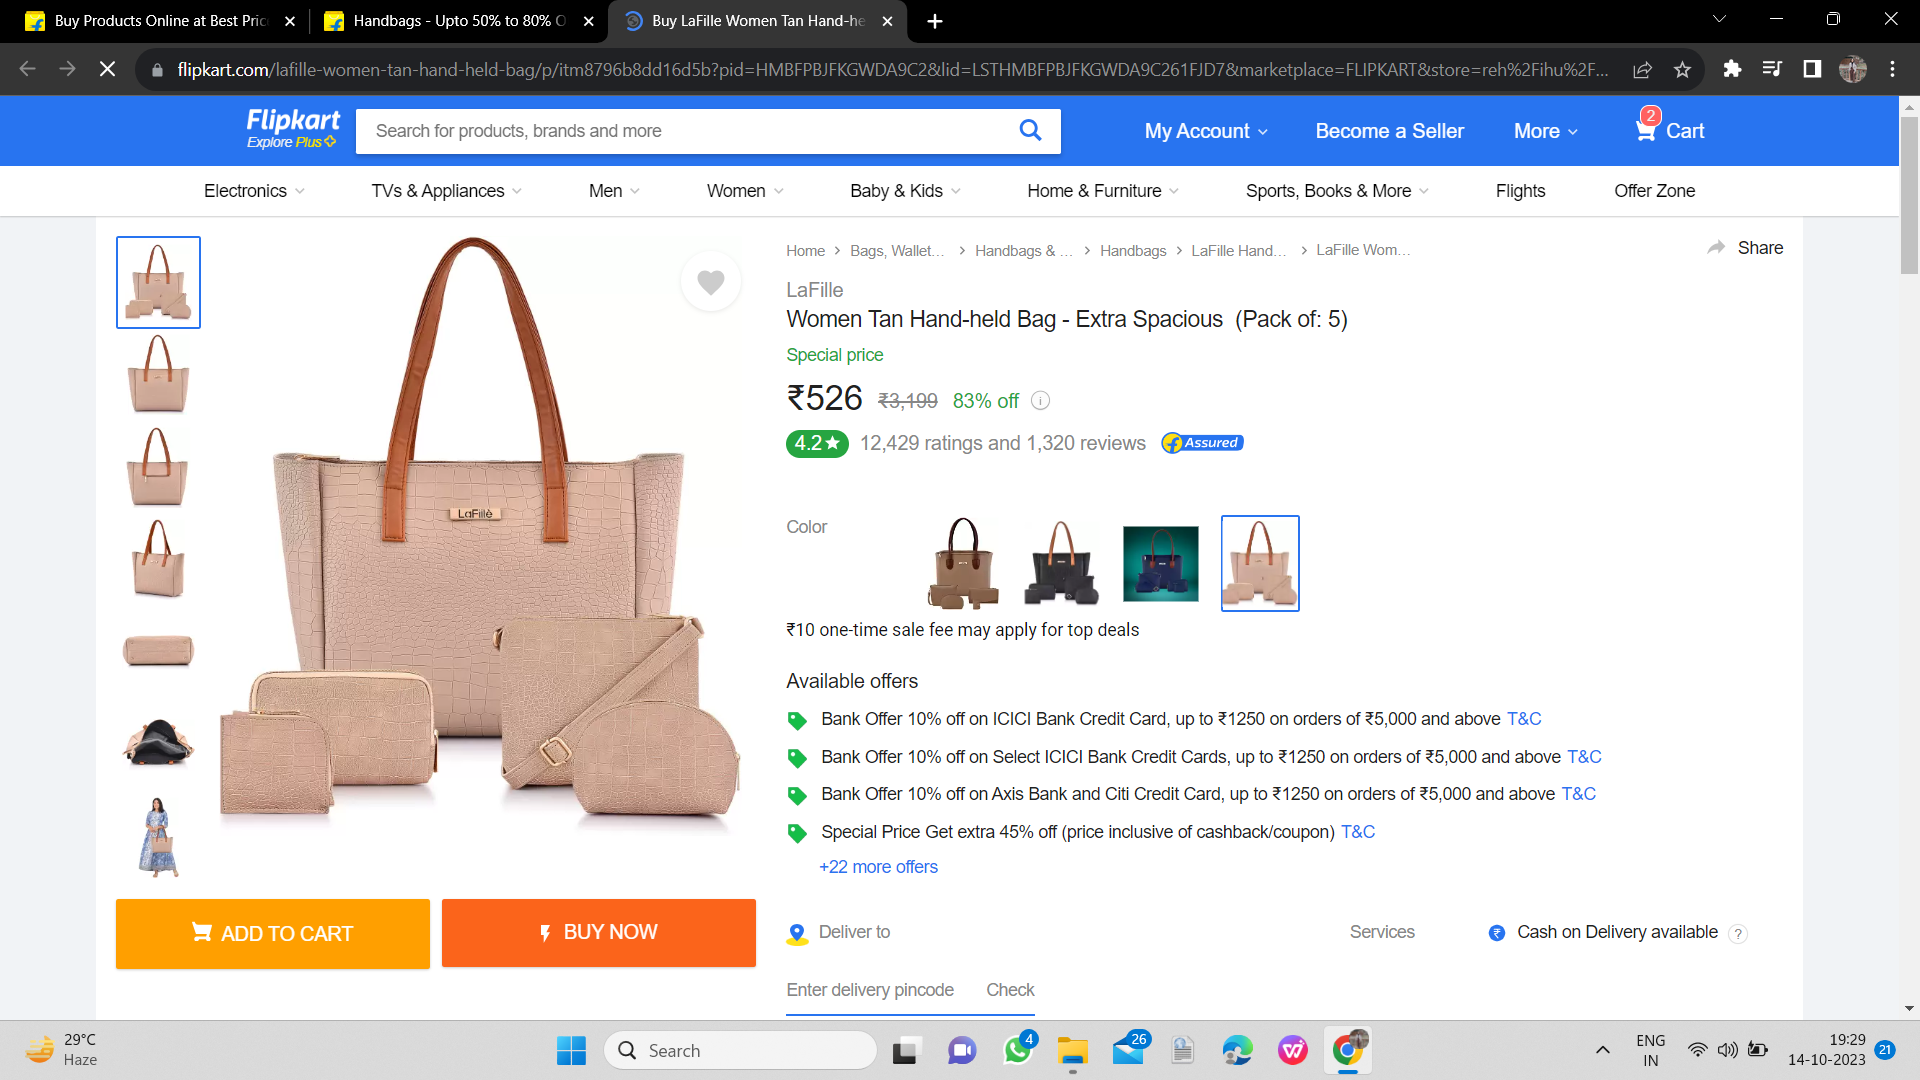Image: (220, 237, 749, 868), (907, 508, 1316, 611)
Paragraph: (783, 704, 1623, 882), (100, 885, 773, 976), (783, 276, 1361, 334), (779, 910, 1035, 1007), (783, 335, 1059, 413), (1141, 115, 1726, 149), (771, 421, 1269, 458), (1341, 910, 1724, 951), (778, 609, 1151, 649), (782, 659, 920, 694), (783, 514, 837, 545)
